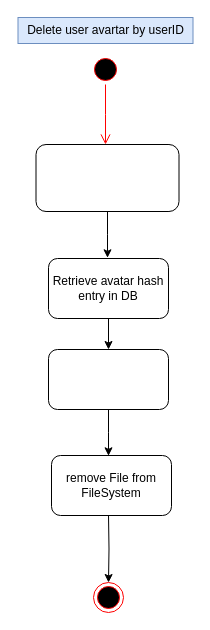
Some shapes in this 210 by 630 pixel diagram are drawn without their labels. Here are the shapes that lost their labels. From the top down, the box of each, then its label:
(35, 144, 179, 212): DELETE /api/user/{userId}/avatar
(48, 348, 168, 410): Delete DB Entry
